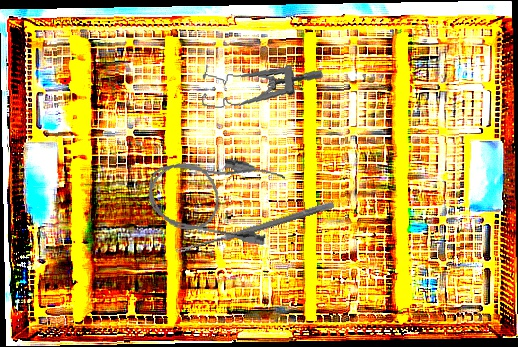Cannula: (142, 146, 287, 247)
Speculum: (198, 54, 324, 121)
Surgical Spoon: (175, 200, 335, 256)
